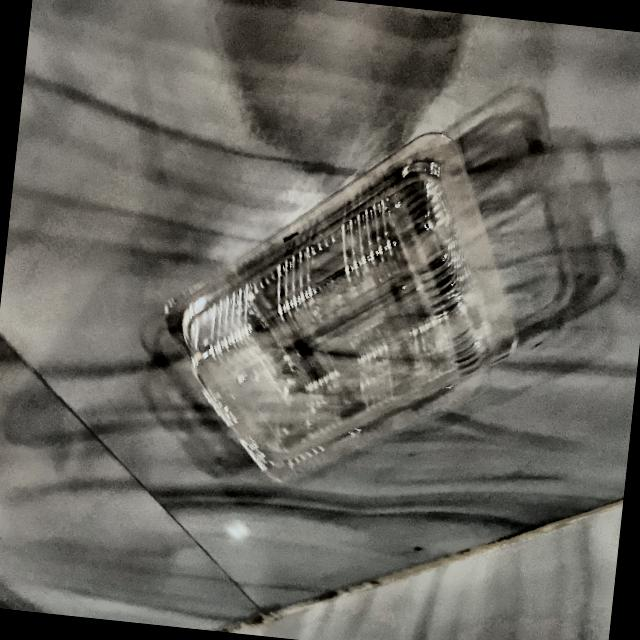plastic container: (158, 104, 544, 491)
